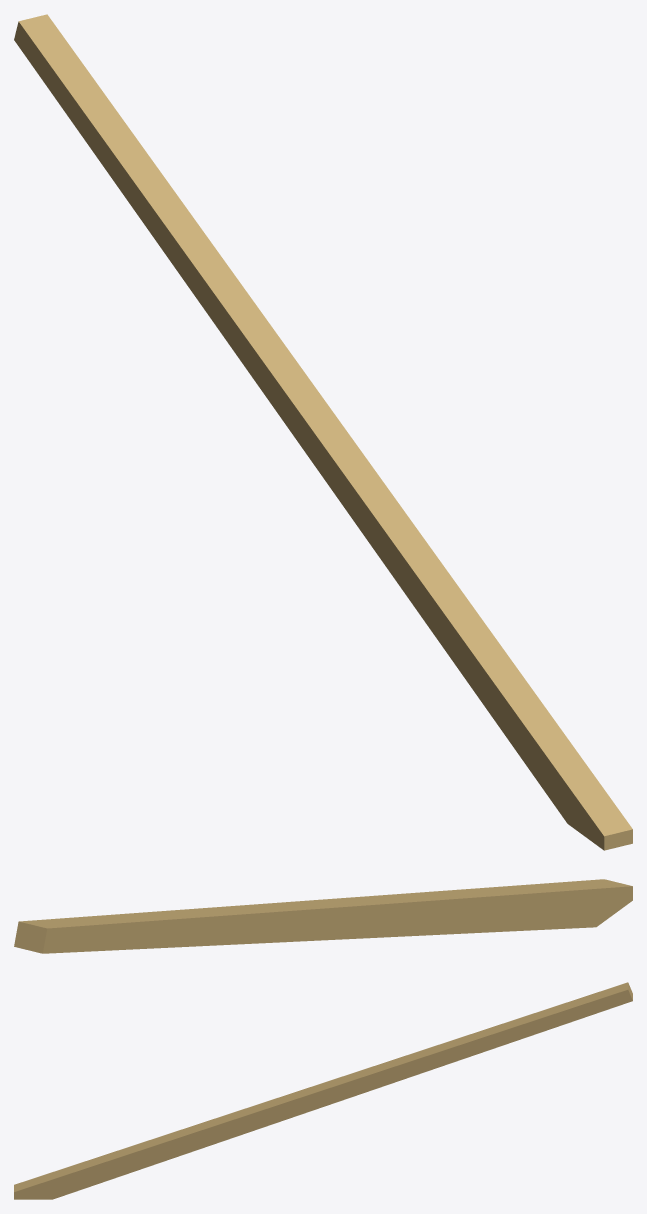
3 renders of one model, top to bottom at view 1: azimuth 30°, elevation 25°; view 2: azimuth 150°, elevation 25°; view 3: azimuth 270°, elevation 25°, orthographic. The views are drawn at different scales.
Parts seen in each view (by area): view 1: L1-3-S8-324-WEB01; view 2: L1-3-S8-324-WEB01; view 3: L1-3-S8-324-WEB01.
Part boxes in pixels (x1=…): L1-3-S8-324-WEB01: x1=14, y1=14, x2=632, y2=850; L1-3-S8-324-WEB01: x1=14, y1=879, x2=632, y2=953; L1-3-S8-324-WEB01: x1=14, y1=982, x2=632, y2=1199.
Bounding box in the file's own units: 0.045 × 0.598 × 1.6.
